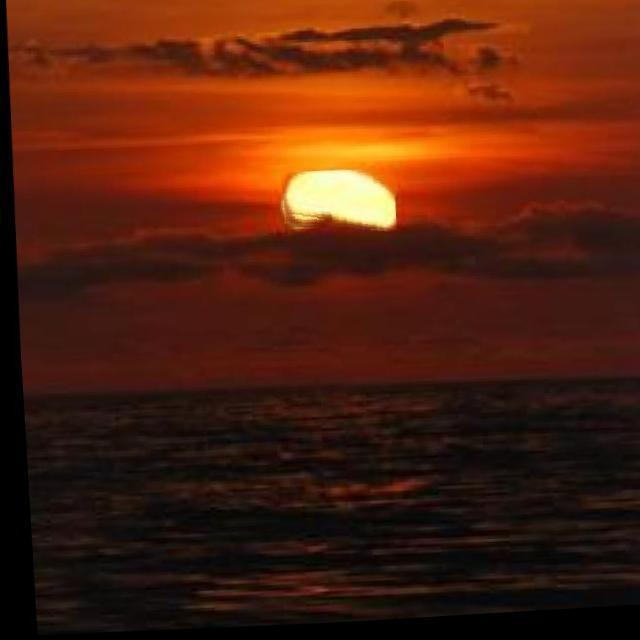sun: (279, 174, 393, 234)
